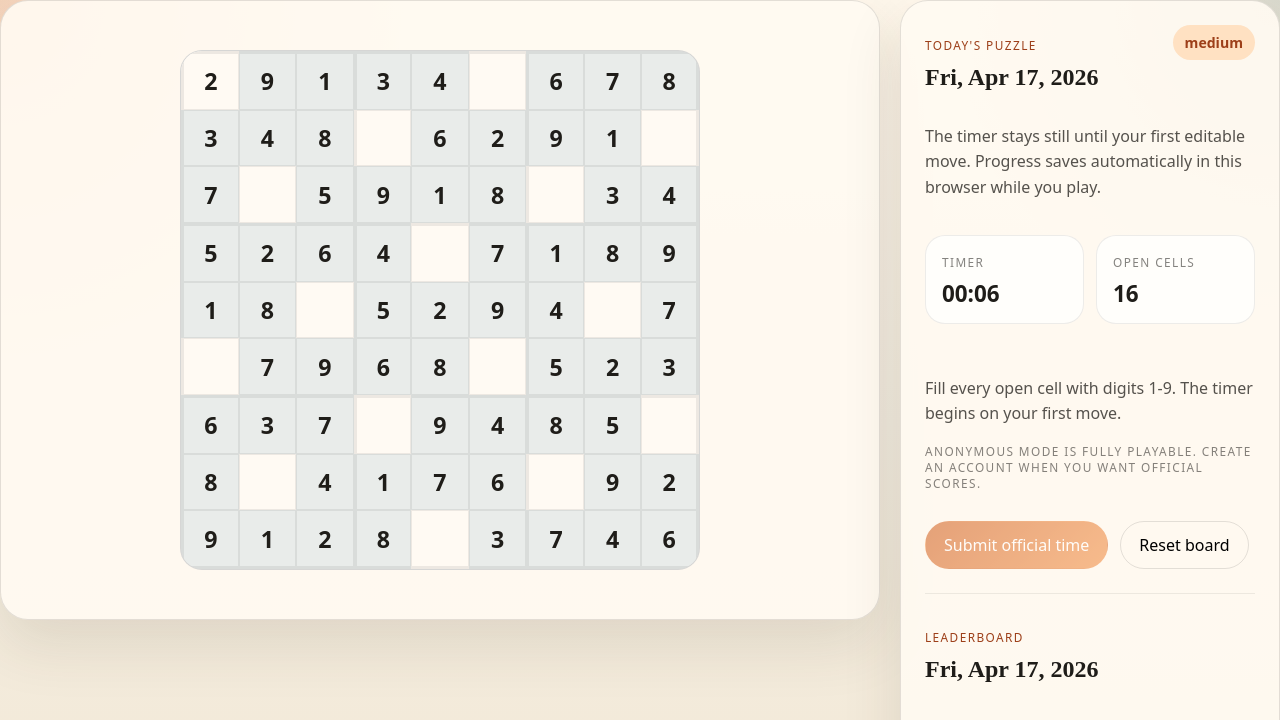
DailySudokuExperience › resets the board back to an idle timer and clears stored progress
Expected: the text with test id "elapsed-timer" reads "00:06", [942,278,1000,309]
Click the button "Reset board" at (1184, 545), box [1120,521,1248,569]
Wait 2000 ms
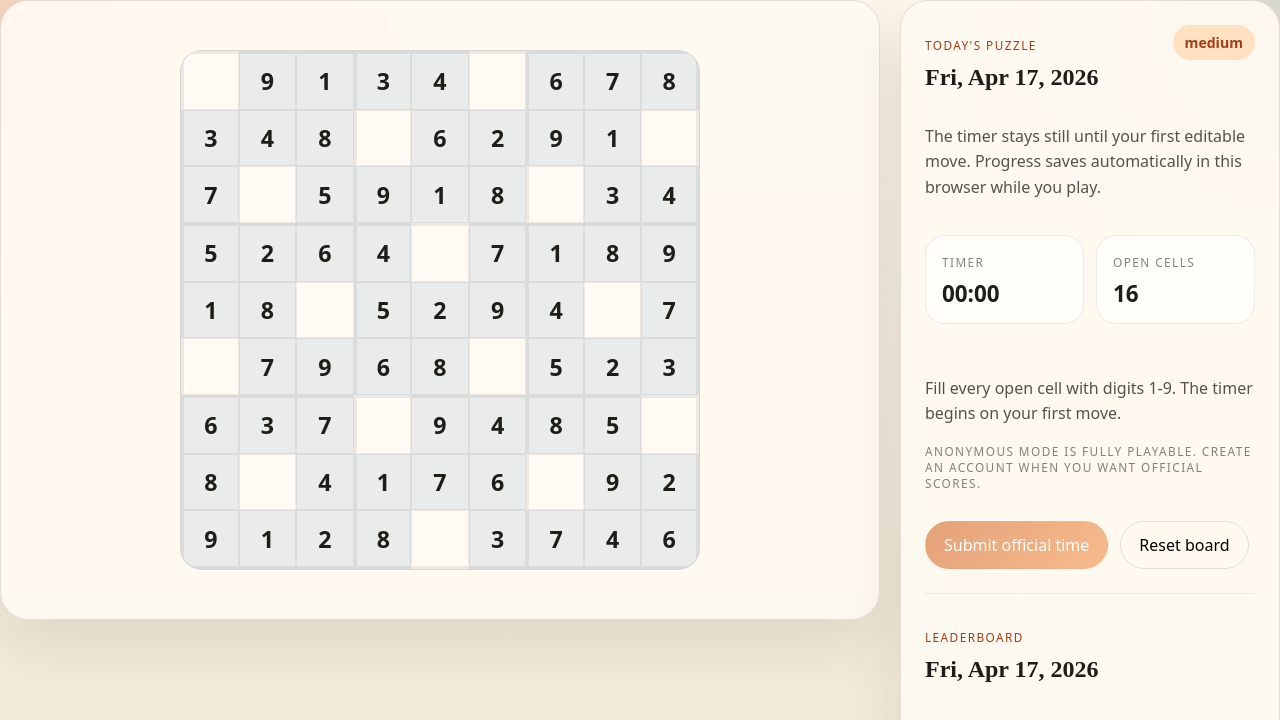
Now the field with test id "cell-0" is empty, box [181,51,238,110]
Now the text with test id "elapsed-timer" reads "00:00", box [942,278,1000,309]
